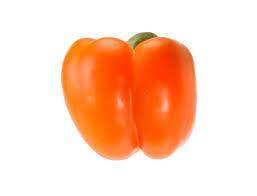non-mango: (60, 31, 197, 160)
